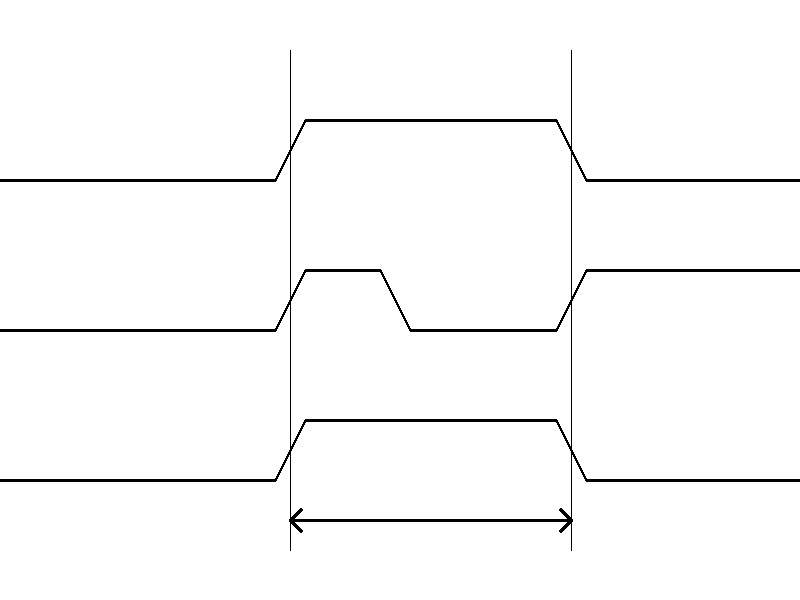double_arrow: (290, 505, 571, 535)
